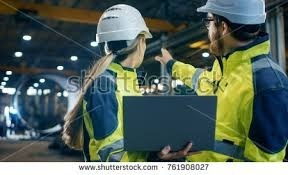helmet: (92, 5, 153, 44), (196, 1, 269, 24)
person with partial safety: (192, 1, 283, 159), (80, 3, 155, 162)
